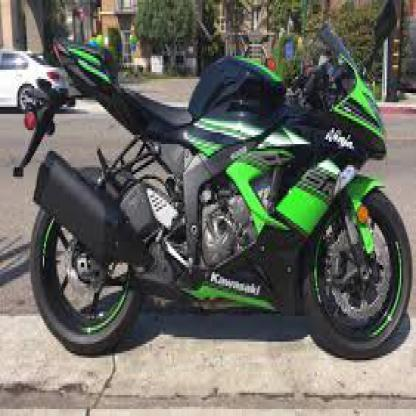Motorcycle: (22, 23, 415, 370)
